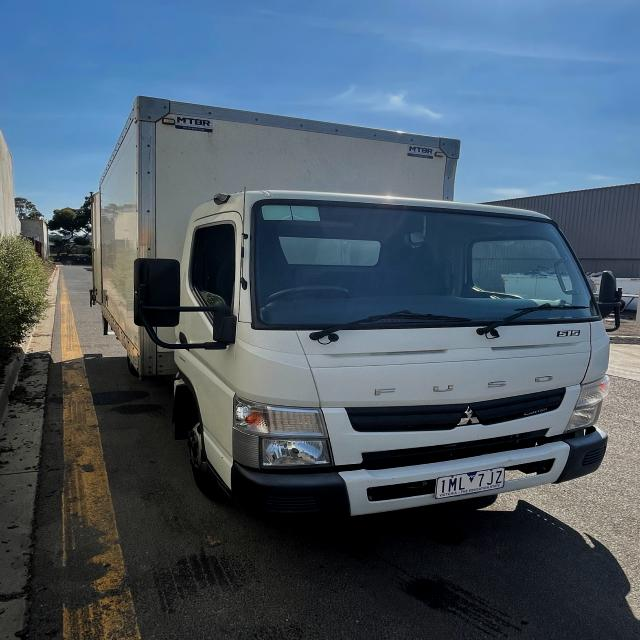truck: (88, 97, 621, 524)
